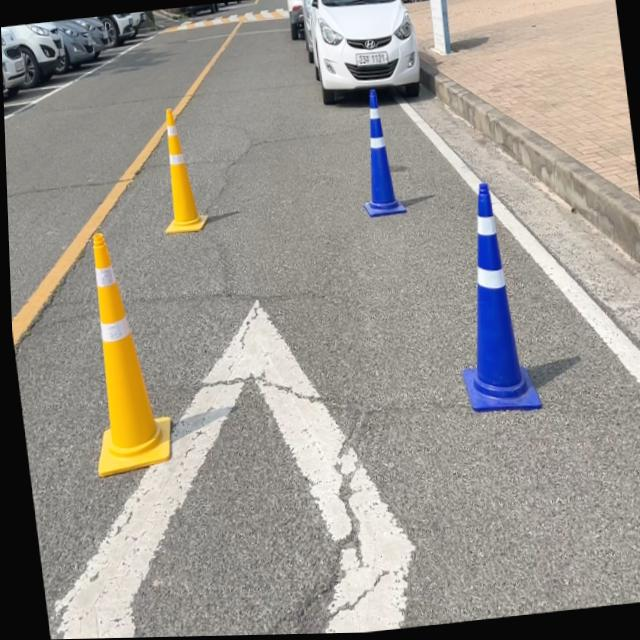b_rub: (460, 183, 539, 413), (362, 89, 404, 217)
y_rub: (90, 233, 166, 476), (163, 107, 206, 233)
